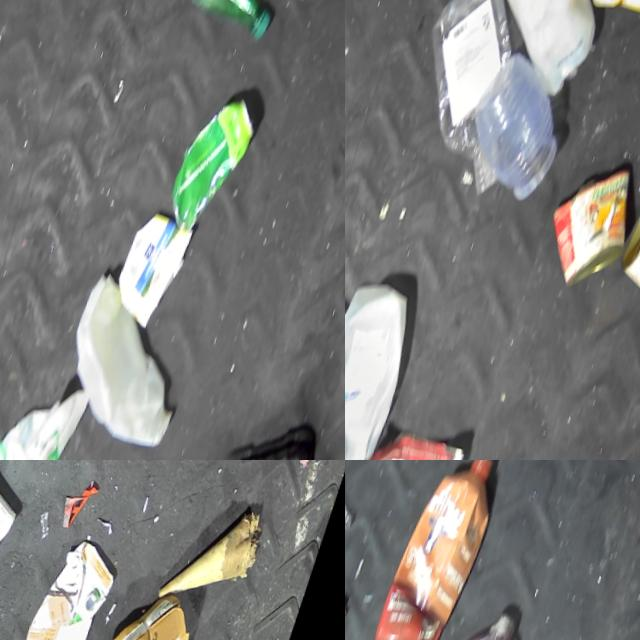can: (161, 81, 268, 236), (536, 144, 640, 296), (612, 176, 640, 312)
milk_jug: (51, 265, 223, 455), (458, 0, 635, 103), (345, 268, 438, 460)
non_white_jug: (366, 460, 512, 640), (23, 531, 134, 640)
plastic_bottle: (385, 0, 565, 198), (147, 0, 304, 46)
